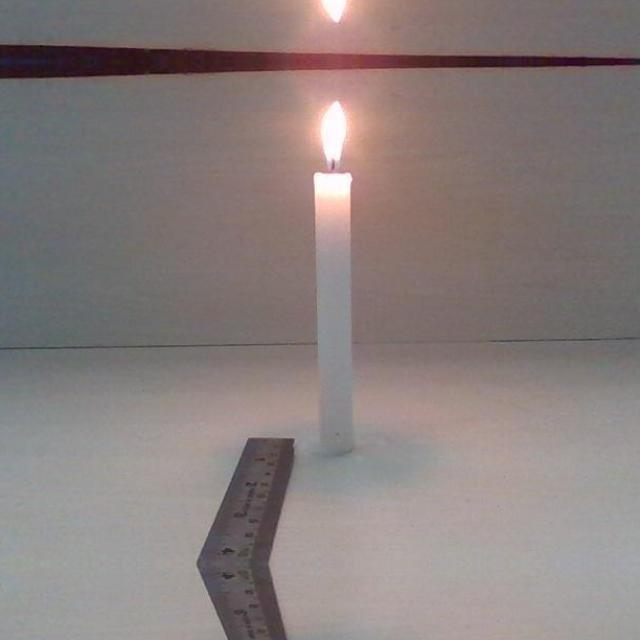smoke: (318, 100, 352, 170), (318, 0, 352, 24)
